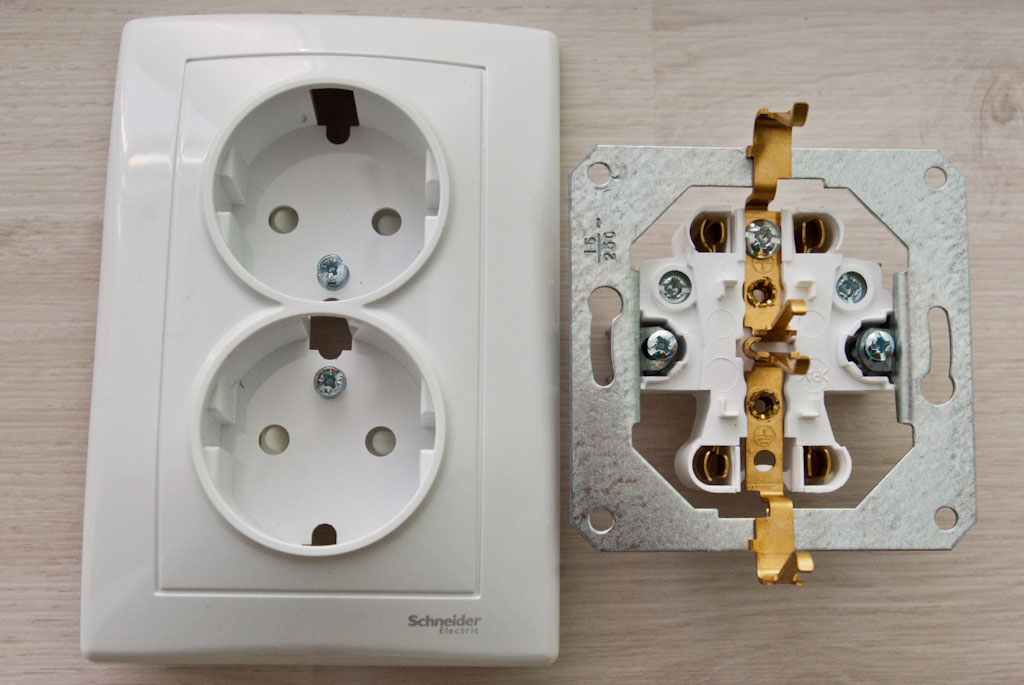raccoon: (194, 313, 443, 554), (208, 76, 448, 311)
